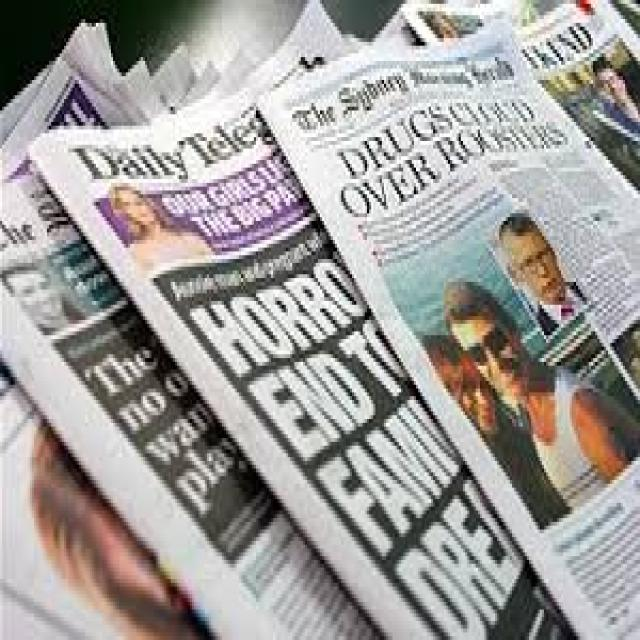paper: (28, 4, 576, 636), (254, 0, 638, 636), (11, 50, 380, 636), (0, 354, 209, 636)
